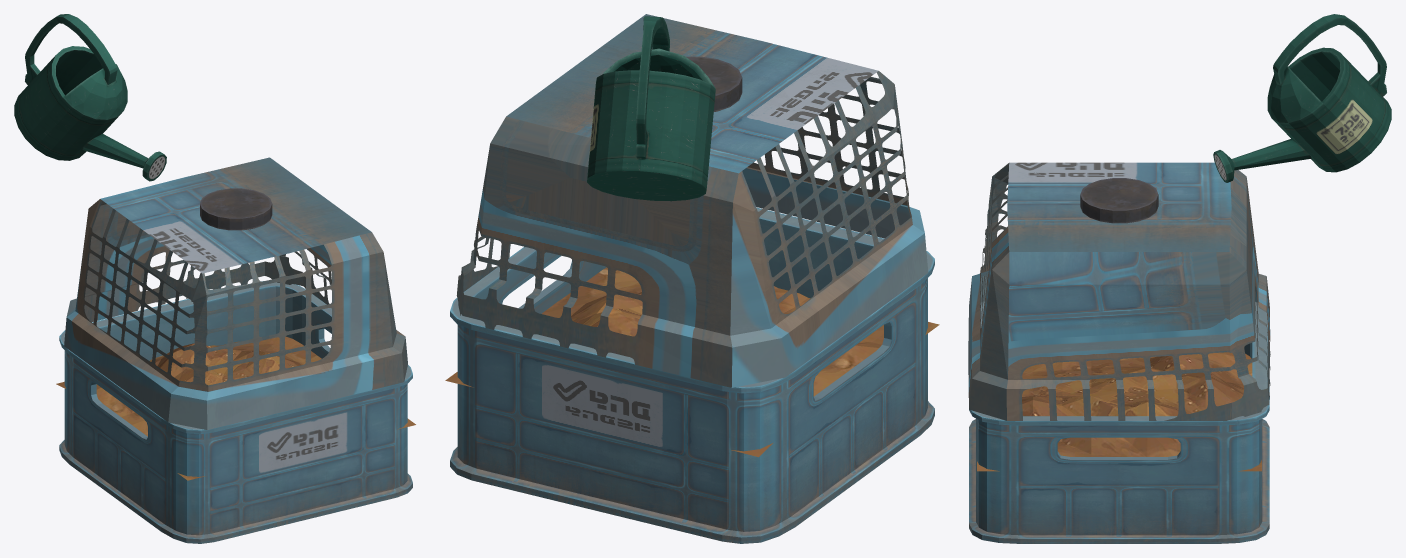
File: P_Baowen01.obj
3 renders of one model, left to right at view 1: azimuth 30°, elevation 25°; view 2: azimuth 150°, elevation 25°; view 3: azimuth 270°, elevation 25°, orthographic. The views are drawn at different scales.
Bounding box in the file's own units: 1 × 1.57 × 1.41.
Materials: 4 (4 with a texture image).
